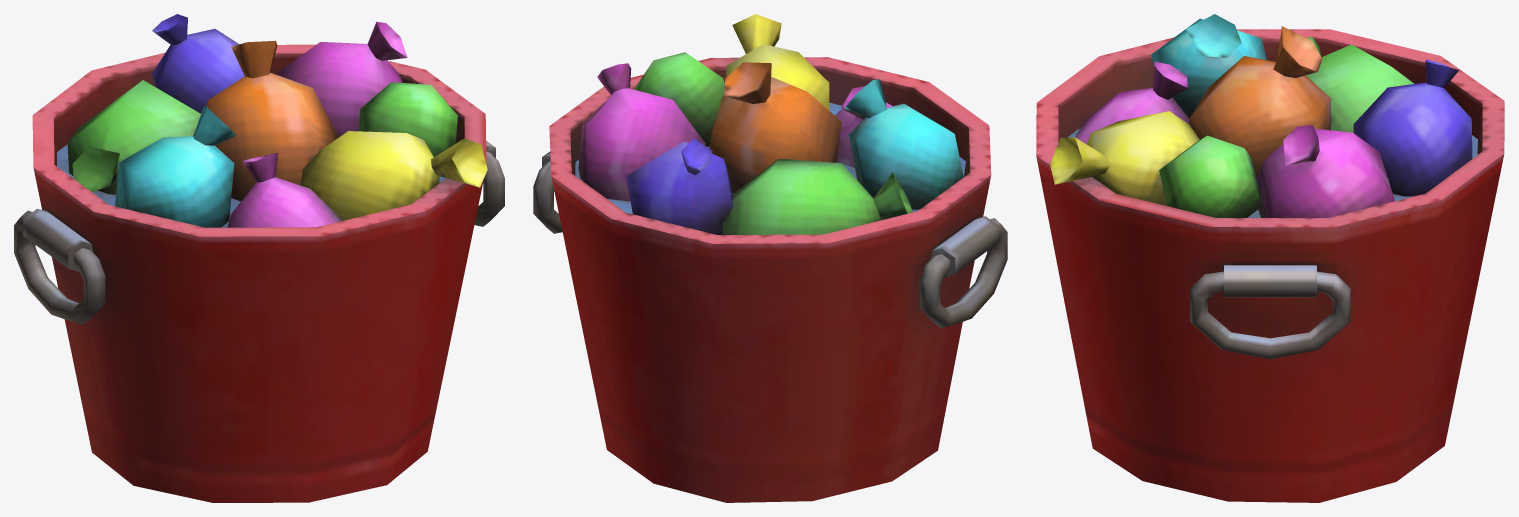
The model's file is GorillaTagBucketBalloon.fbx.
The picture shows the model from 3 angles, left to right: view 1: azimuth 30°, elevation 25°; view 2: azimuth 150°, elevation 25°; view 3: azimuth 270°, elevation 25°; orthographic projection. The views are drawn at different scales.
Visible parts, largest first — view 1: BucketBallons, BucketBallons_1, BucketBallons_2; view 2: BucketBallons, BucketBallons_1, BucketBallons_2; view 3: BucketBallons, BucketBallons_1.
Boxes of the visible parts, x1,y1,x2,y2 form: BucketBallons: [14, 44, 504, 502]; BucketBallons_1: [67, 14, 487, 227]; BucketBallons_2: [57, 144, 445, 227]; BucketBallons: [533, 57, 1007, 502]; BucketBallons_1: [578, 14, 963, 234]; BucketBallons_2: [575, 102, 965, 214]; BucketBallons: [1036, 29, 1504, 502]; BucketBallons_1: [1050, 14, 1472, 217].
Bounding box in the file's own units: 63.2 × 54.68 × 58.28.
